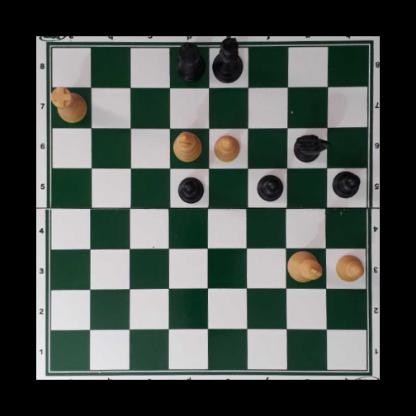black-king: (212, 37, 242, 84)
black-knight: (292, 133, 330, 163)
black-pawn: (177, 177, 206, 205), (331, 169, 359, 197), (256, 172, 282, 201)
black-rook: (173, 40, 205, 82)
white-bishop: (172, 129, 201, 163)
white-king: (286, 249, 321, 281)
white-pawn: (334, 252, 364, 281), (212, 133, 240, 162)
white-rook: (50, 87, 86, 123)
